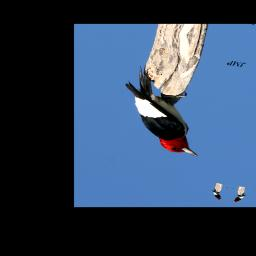Woodpecker: (109, 64, 219, 158)
